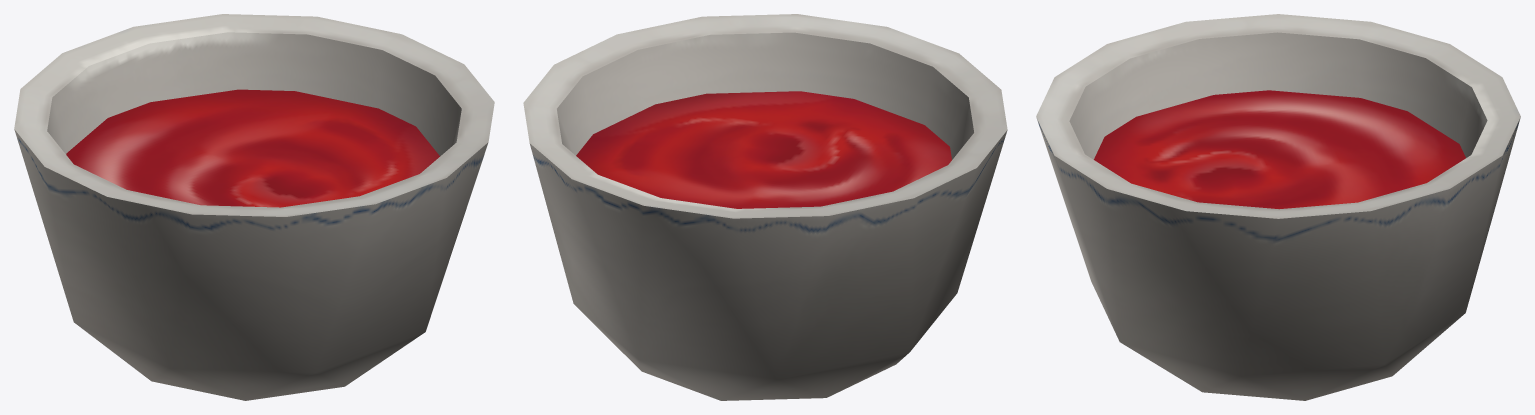
The model's file is friesbowlwithketchup.fbx.
The picture shows the model from 3 angles, left to right: view 1: azimuth 30°, elevation 25°; view 2: azimuth 150°, elevation 25°; view 3: azimuth 270°, elevation 25°; orthographic projection.
Visible parts, largest first — view 1: friesbowlwithketchup, friesketchup.002; view 2: friesbowlwithketchup, friesketchup.002; view 3: friesbowlwithketchup, friesketchup.002.
Part boxes in pixels (x1=…): friesbowlwithketchup: x1=14, y1=14, x2=494, y2=400; friesketchup.002: x1=66, y1=89, x2=439, y2=207; friesbowlwithketchup: x1=523, y1=14, x2=1007, y2=400; friesketchup.002: x1=576, y1=91, x2=951, y2=208; friesbowlwithketchup: x1=1036, y1=14, x2=1520, y2=400; friesketchup.002: x1=1094, y1=90, x2=1465, y2=209.
Bounding box in the file's own units: 15.87 × 8.22 × 15.87.
